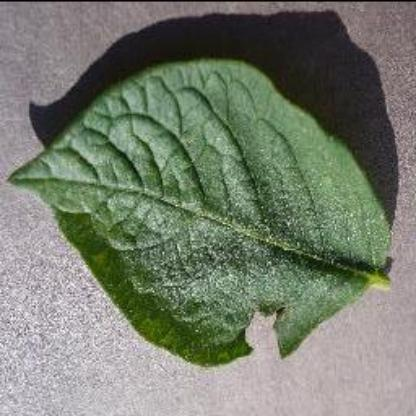Healthy-plant: (9, 49, 396, 368)
